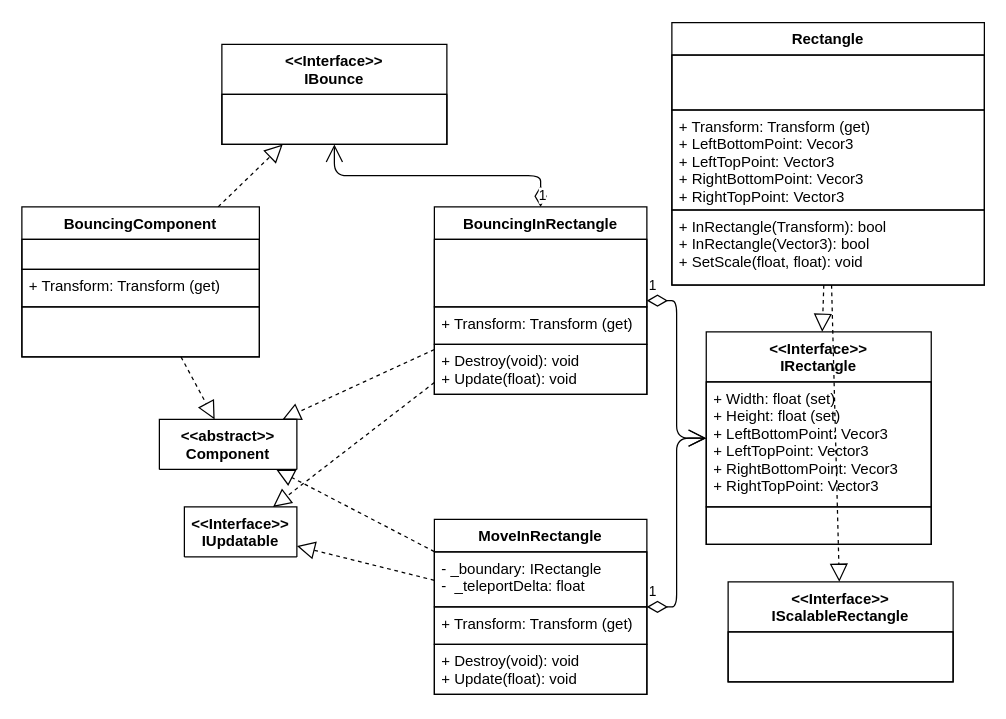
The diagram is 1006 pixels wide and 719 high, and some of its shapes have lost their labels. The shapes that lost their labels are listed below. From the top down, each one's centre as x and y in pixels, then its label:
At (827,82): "- _width: float - _height: float".
At (334,118): "+ Bounce(Vector3): void + Bounce(float, float, float): void".
At (140,253): "- _directionMove: IDirectionMover".
At (540,272): "- _boundary: IRectangle - _bounce: IBounce - _teleportDelta: float".
At (140,331): "+ Destroy(void): void + Bounce(float, float, float): void".
At (818,525): "+ InRectangle(Vector3): bool".
At (840,656): "+ Width: float (set) + Height: float (set)".
